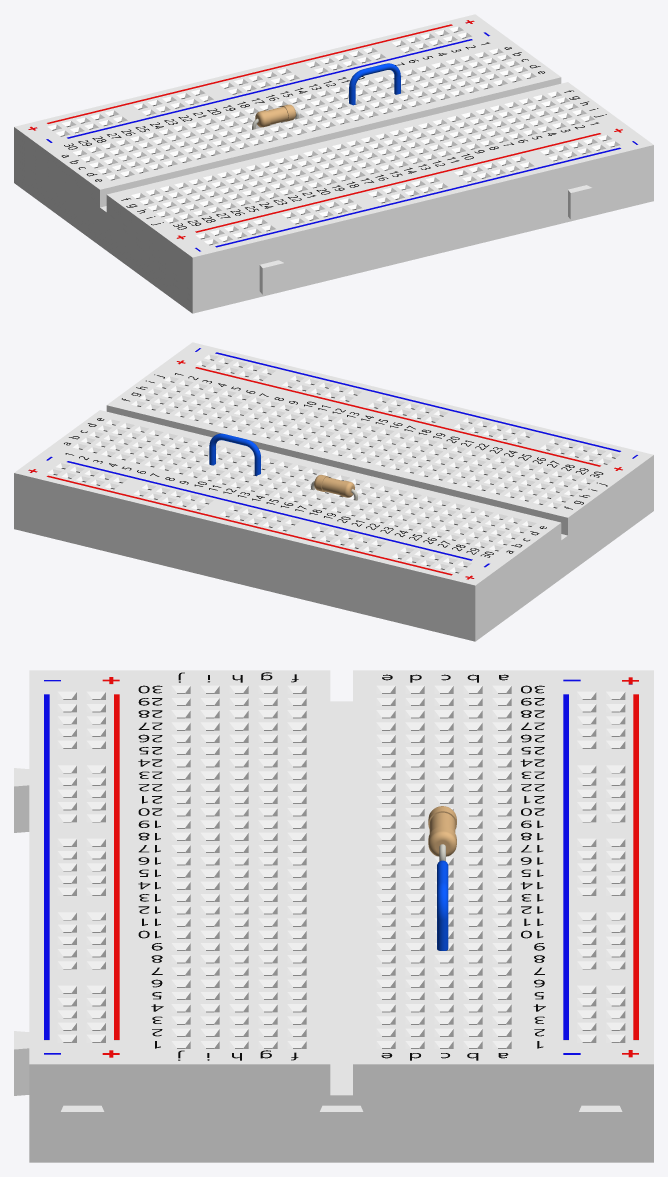
Rendered from Unnamed-breadboard 1.gltf.
3 views of the same model, one above another, from view 1: azimuth 30°, elevation 25°; view 2: azimuth 150°, elevation 25°; view 3: azimuth 270°, elevation 25° (orthographic). The views are drawn at different scales.
Parts seen in each view (by area): view 1: HalfBreadboard001, HalfBreadboard, R_Axial_DIN0207_L63mm_D25mm_P762mm_Horizontal, Jumper-Wire_8mm_Blue; view 2: HalfBreadboard001, HalfBreadboard, R_Axial_DIN0207_L63mm_D25mm_P762mm_Horizontal, Jumper-Wire_8mm_Blue; view 3: HalfBreadboard001, HalfBreadboard, R_Axial_DIN0207_L63mm_D25mm_P762mm_Horizontal, Jumper-Wire_8mm_Blue.
Boxes of the visible parts, x1,y1,x2,y2 form: HalfBreadboard001: [14, 14, 653, 307]; HalfBreadboard: [14, 177, 653, 313]; R_Axial_DIN0207_L63mm_D25mm_P762mm_Horizontal: [252, 104, 298, 129]; Jumper-Wire_8mm_Blue: [349, 63, 400, 105]; HalfBreadboard001: [14, 342, 653, 635]; HalfBreadboard: [14, 505, 653, 641]; R_Axial_DIN0207_L63mm_D25mm_P762mm_Horizontal: [311, 475, 357, 500]; Jumper-Wire_8mm_Blue: [209, 433, 260, 476]; HalfBreadboard001: [14, 670, 653, 1158]; HalfBreadboard: [29, 1152, 653, 1162]; R_Axial_DIN0207_L63mm_D25mm_P762mm_Horizontal: [428, 806, 456, 861]; Jumper-Wire_8mm_Blue: [437, 860, 448, 950].
Size of the model in its own units: 0.083 by 0.0147 by 0.0561.
